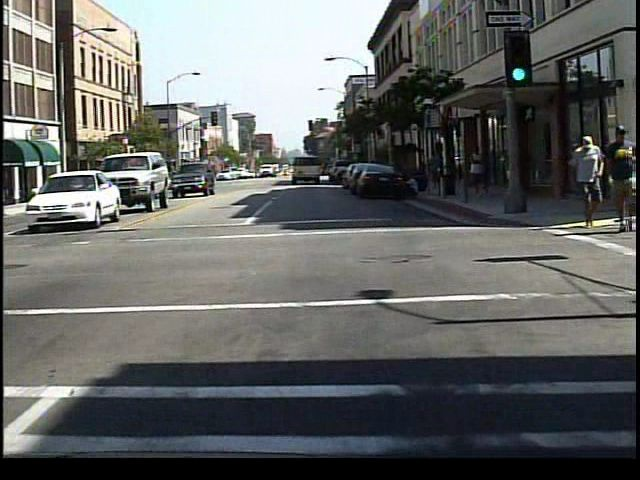person: (565, 131, 610, 233), (466, 142, 497, 204)
